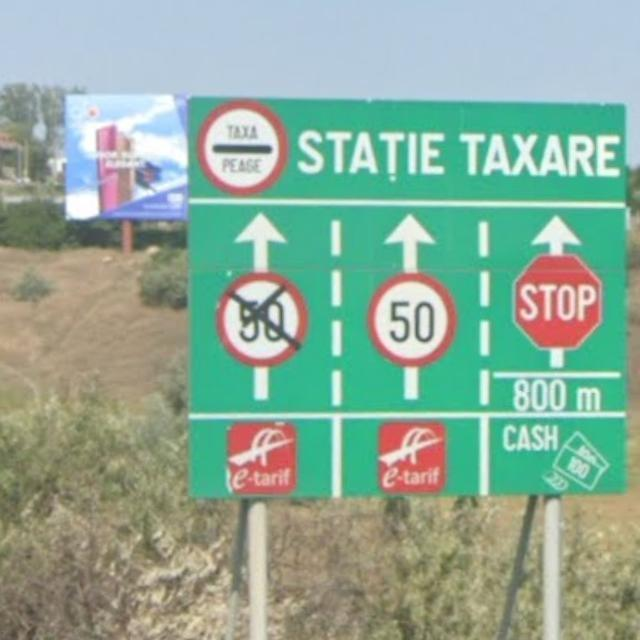forb_speed_over_50: (367, 273, 456, 368)
prio_stop: (513, 253, 602, 350)
